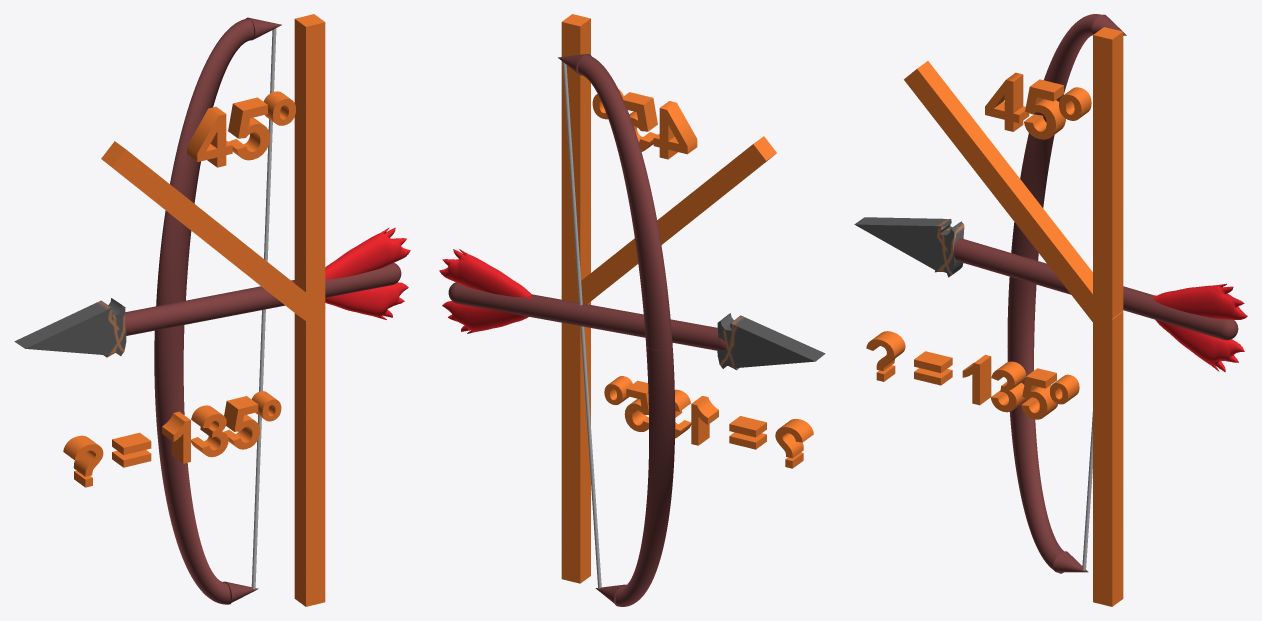
The model's file is pergunta17Obj.fbx.
3 views of the same model, side by side, from view 1: azimuth 30°, elevation 25°; view 2: azimuth 150°, elevation 25°; view 3: azimuth 330°, elevation 25° (orthographic). The views are drawn at different scales.
Visible parts, largest first — view 1: root (×2), node_id171, node_id78, node_id72, node_id82, node_id145, node_id84, node_id88, node_id74, node_id86; view 2: root (×2), node_id72, node_id78, node_id82, node_id171, node_id84, node_id145, node_id74, node_id88, node_id86; view 3: root (×2), node_id171, node_id78, node_id82, node_id145, node_id72, node_id84, node_id88, node_id86, node_id74.
Part boxes in pixels (x1,y1,x2,y2): root (×2): (101,14,325,606); node_id171: (63,391,281,487); node_id78: (154,325,230,604); node_id72: (156,18,254,306); node_id82: (125,263,401,335); node_id145: (187,91,295,167); node_id84: (14,298,126,357); node_id88: (325,227,410,279); node_id74: (251,28,276,589); node_id86: (325,282,408,319); root (×2): (561,14,776,583); node_id72: (578,54,672,350); node_id78: (615,345,675,606); node_id82: (448,282,726,350); node_id171: (604,376,813,468); node_id84: (717,313,825,370); node_id145: (592,89,697,159); node_id74: (562,62,601,588); node_id88: (439,249,531,297); node_id86: (442,296,532,333); root (×2): (904,27,1123,606); node_id171: (866,331,1079,419); node_id78: (1007,277,1063,573); node_id82: (953,238,1238,340); node_id145: (985,72,1091,139); node_id72: (1011,14,1101,260); node_id84: (854,217,964,277); node_id88: (1153,283,1247,319); node_id86: (1152,295,1244,372); node_id74: (1082,412,1092,570).
Bounding box in the file's own units: 0.2758 × 0.3881 × 0.0488.
Materials: 13 (5 with a texture image).
